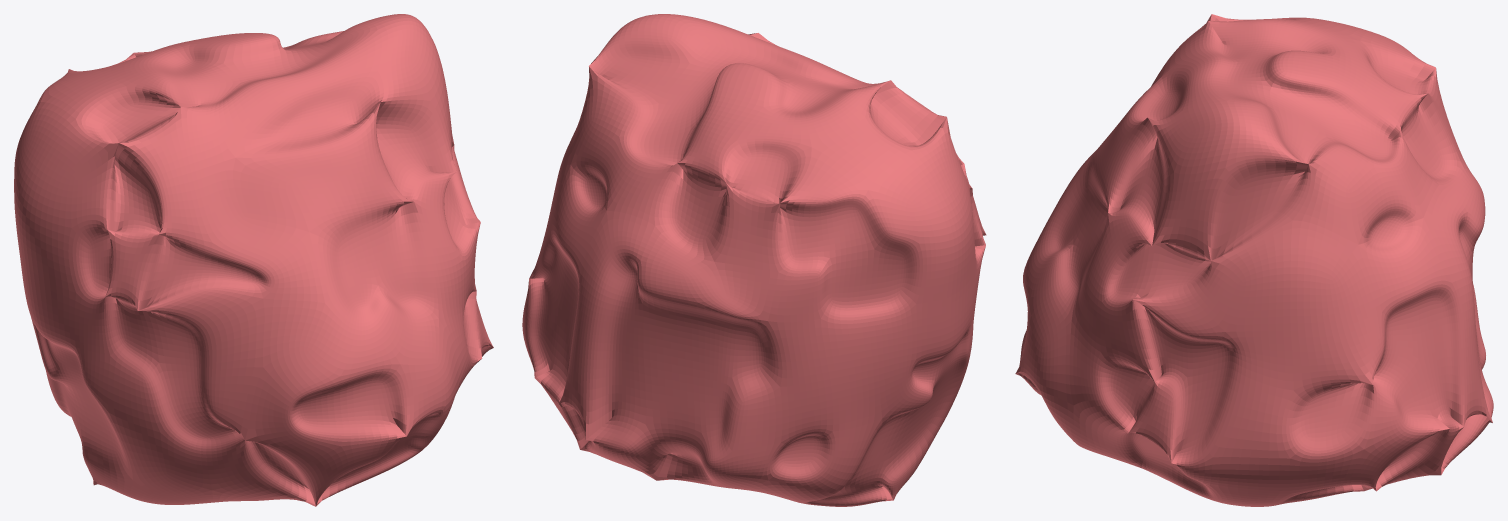
File: 14-OreFormation.fbx
3 views of the same model, side by side, from view 1: azimuth 30°, elevation 25°; view 2: azimuth 150°, elevation 25°; view 3: azimuth 270°, elevation 25° (orthographic). The views are drawn at different scales.
Visible parts, largest first — view 1: OreFormation; view 2: OreFormation; view 3: OreFormation.
Boxes of the visible parts, x1=… form: OreFormation: x1=14, y1=14, x2=493, y2=506; OreFormation: x1=522, y1=14, x2=986, y2=506; OreFormation: x1=1015, y1=14, x2=1493, y2=506.
Bounding box in the file's own units: 224 × 215 × 219.
